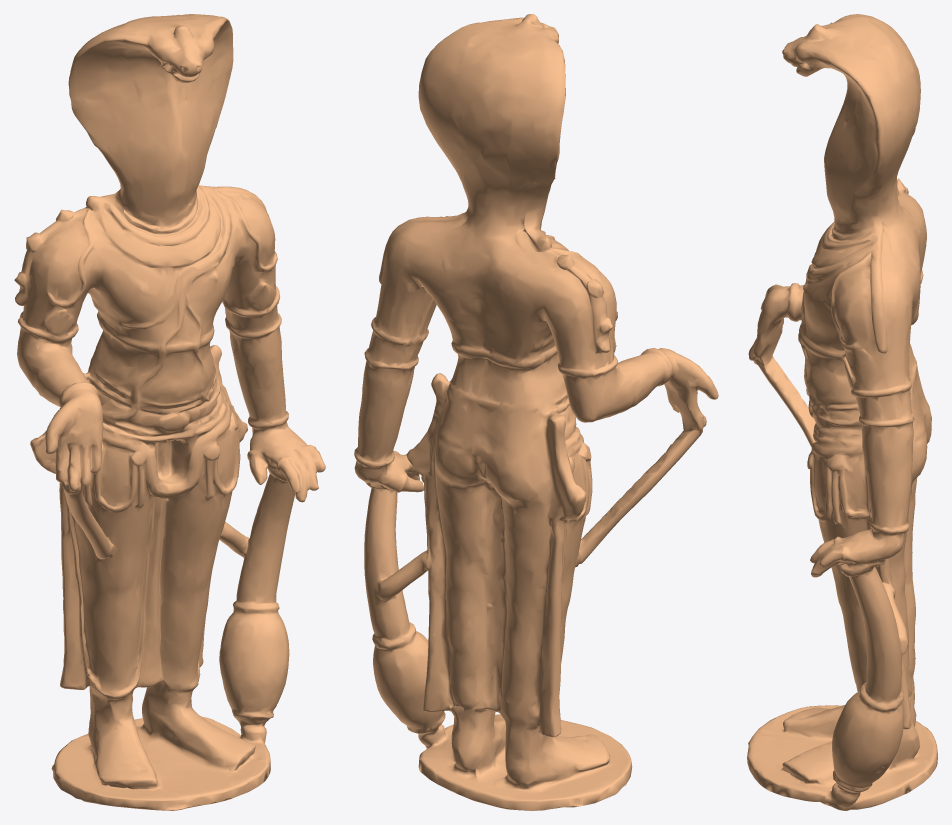
Rendered from Navagragangal_Keedhu_Bagavan_01.glb.
The picture shows the model from 3 angles, left to right: view 1: azimuth 30°, elevation 25°; view 2: azimuth 150°, elevation 25°; view 3: azimuth 270°, elevation 25°; orthographic projection.
Visible parts, largest first — view 1: Navagragangal_Keedhu_Bagavan_01; view 2: Navagragangal_Keedhu_Bagavan_01; view 3: Navagragangal_Keedhu_Bagavan_01.
Boxes of the visible parts, x1,y1,x2,y2 form: Navagragangal_Keedhu_Bagavan_01: (14,14,325,810); Navagragangal_Keedhu_Bagavan_01: (354,14,718,810); Navagragangal_Keedhu_Bagavan_01: (747,14,937,810).
Bounding box in the file's own units: 0.3503 × 0.8195 × 0.1904.
